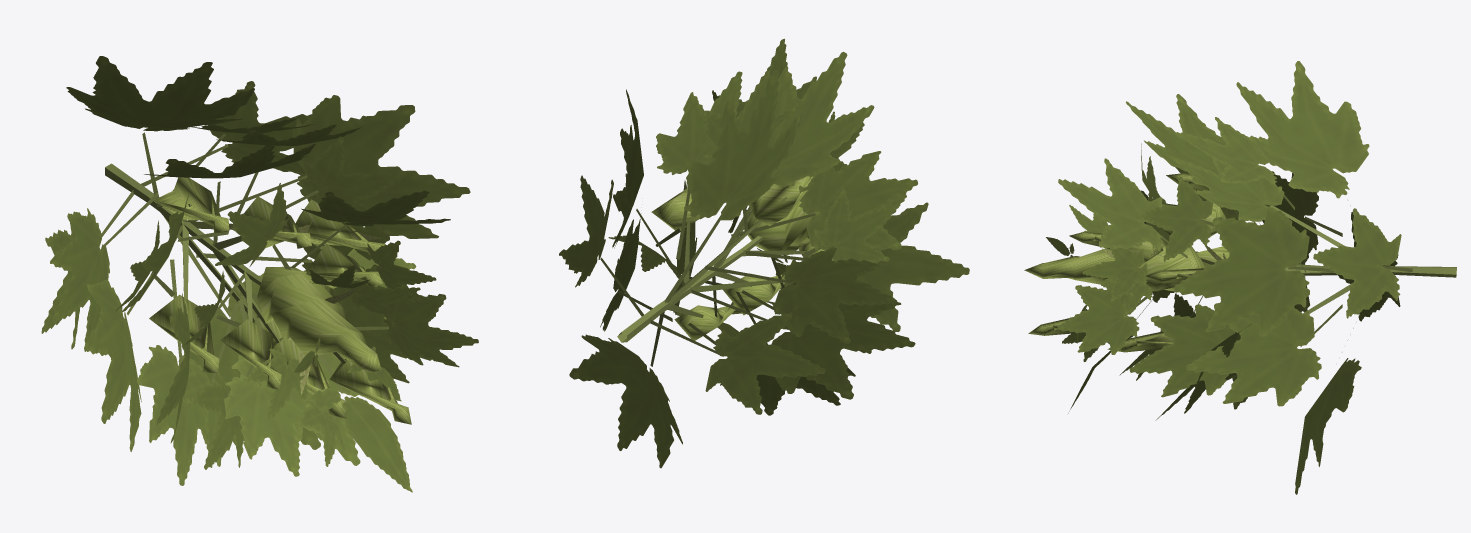
The model's file is p_kush_flowering_c1_cards.obj.
3 views of the same model, side by side, from view 1: azimuth 30°, elevation 25°; view 2: azimuth 150°, elevation 25°; view 3: azimuth 270°, elevation 25° (orthographic). The views are drawn at different scales.
Bounding box in the file's own units: 1.22 × 1.49 × 1.33.
Materials: 1 (1 with a texture image).
